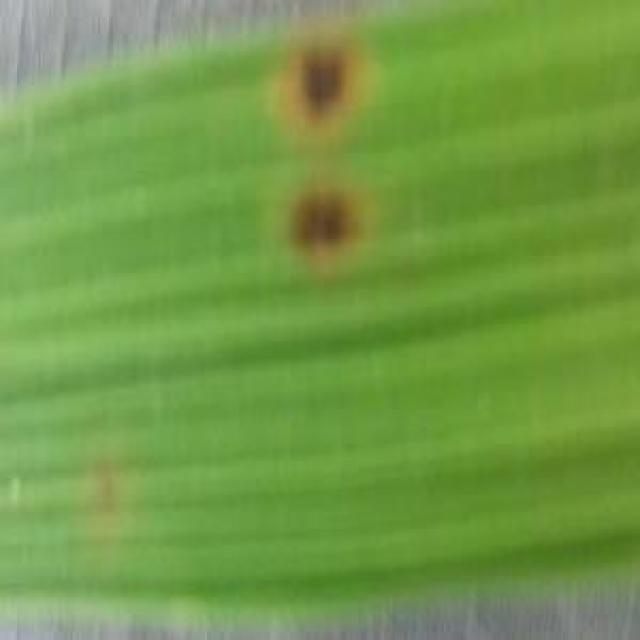brownspots: (273, 177, 371, 250), (279, 54, 384, 120)
